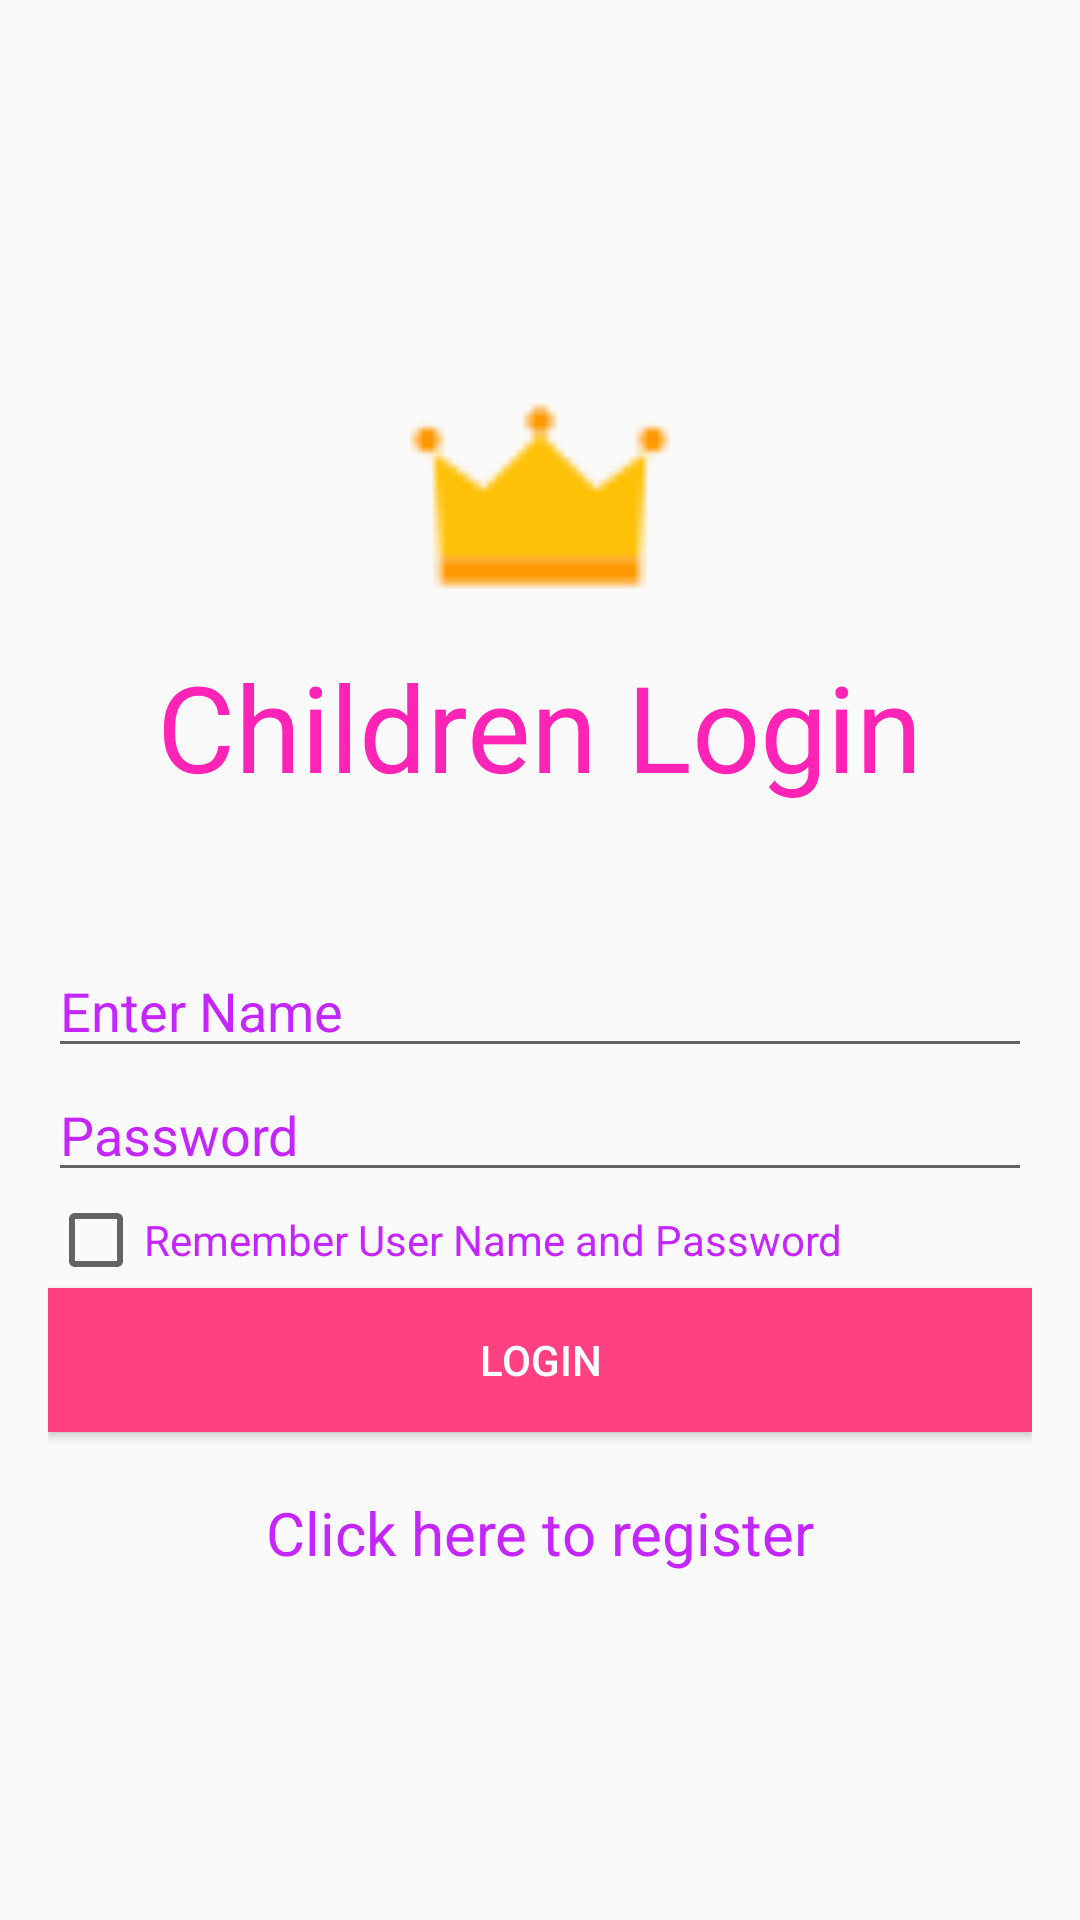

Where to tap for icons on this 1080px×1920px app screen, as (x,y):
crown: (540,496)
